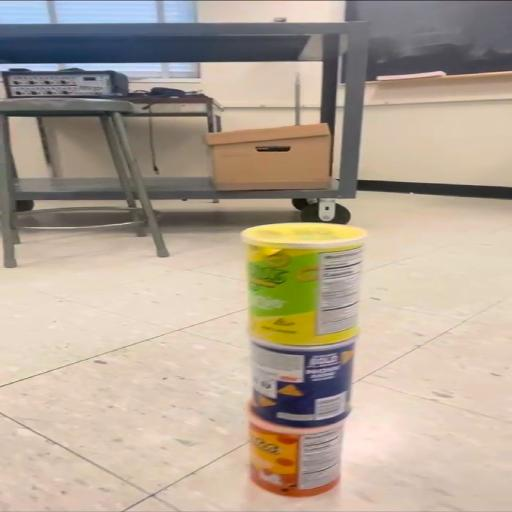pringle can: (243, 224, 365, 345), (251, 339, 355, 427), (249, 412, 343, 496)
